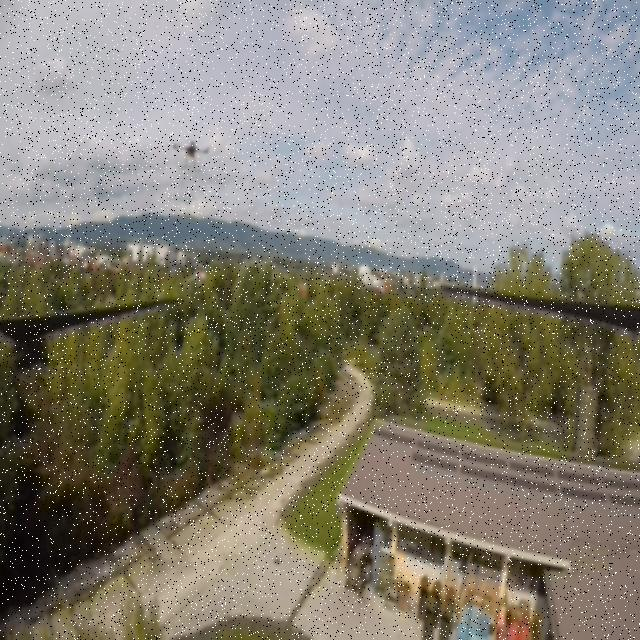UAV: (170, 133, 211, 176)
